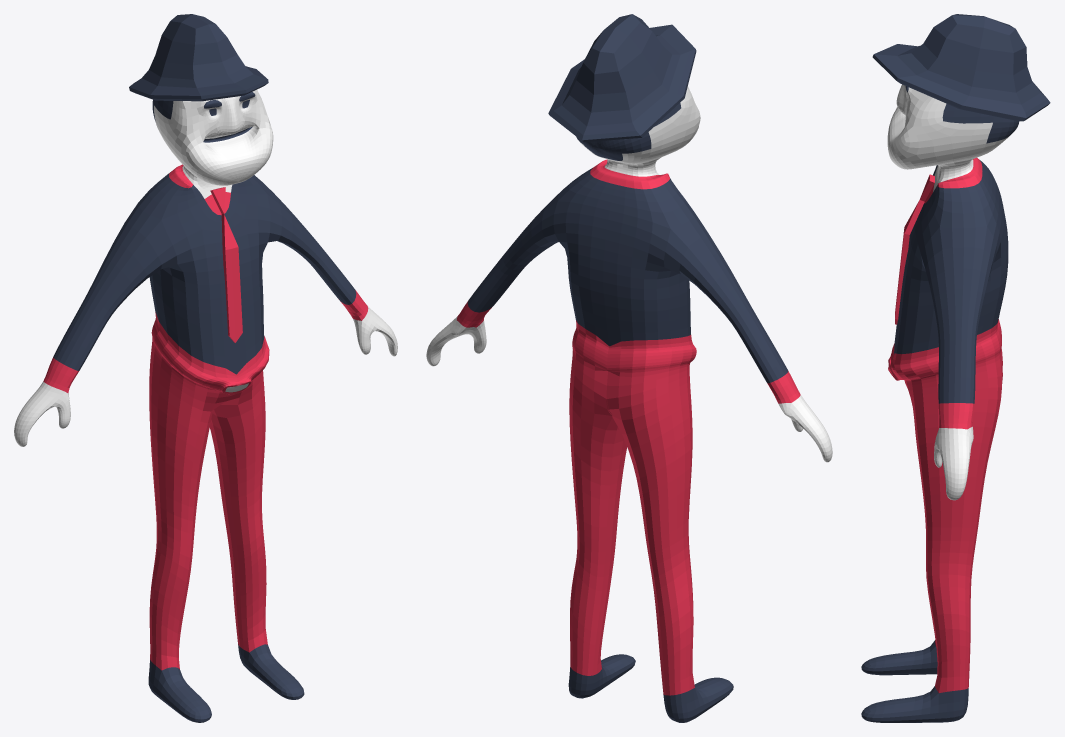
Rendered from Townspeople2Man.fbx.
3 renders of one model, left to right at view 1: azimuth 30°, elevation 25°; view 2: azimuth 150°, elevation 25°; view 3: azimuth 270°, elevation 25°, orthographic. The views are drawn at different scales.
Visible parts, largest first — view 1: Townspeople; view 2: Townspeople; view 3: Townspeople.
Boxes of the visible parts, x1,y1,x2,y2 form: Townspeople: [14, 14, 397, 722]; Townspeople: [426, 14, 832, 722]; Townspeople: [861, 14, 1050, 722].
Size of the model in its own units: 1.87 by 3.08 by 0.7759.
